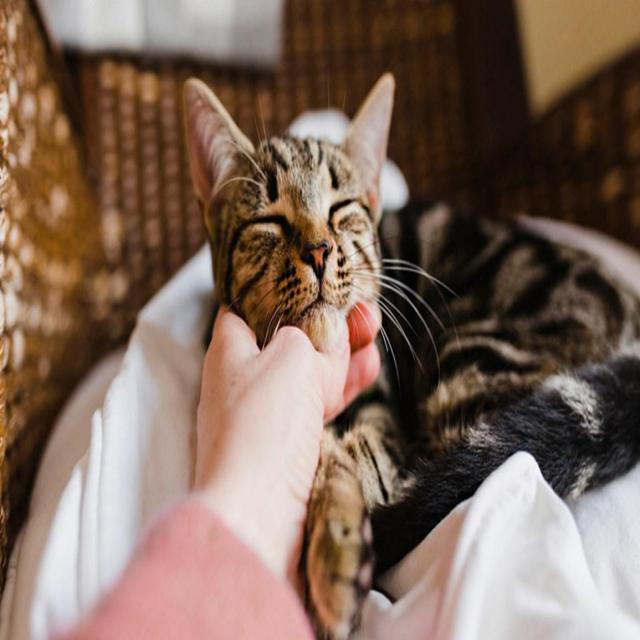Cat: (177, 67, 405, 357)
